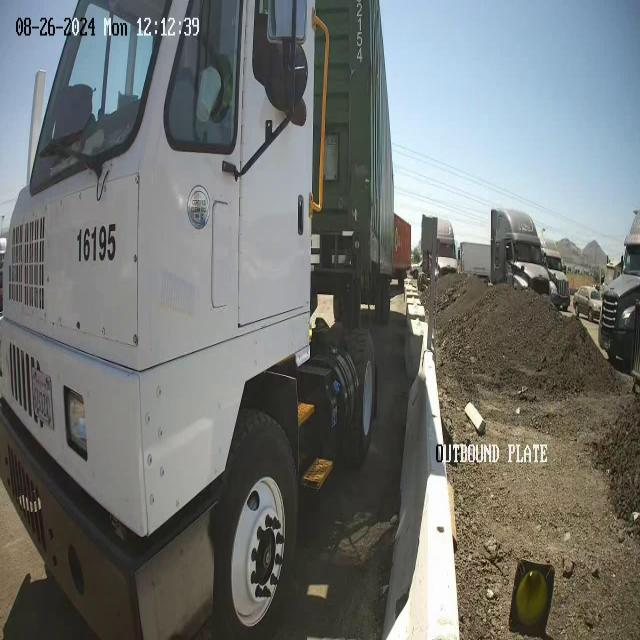TRUCK_OUT: (1, 1, 395, 637)
